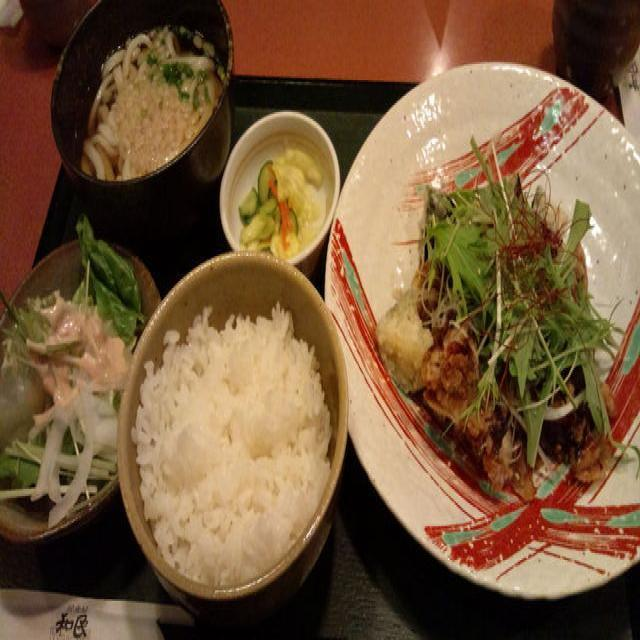Rice: (137, 312, 336, 587)
